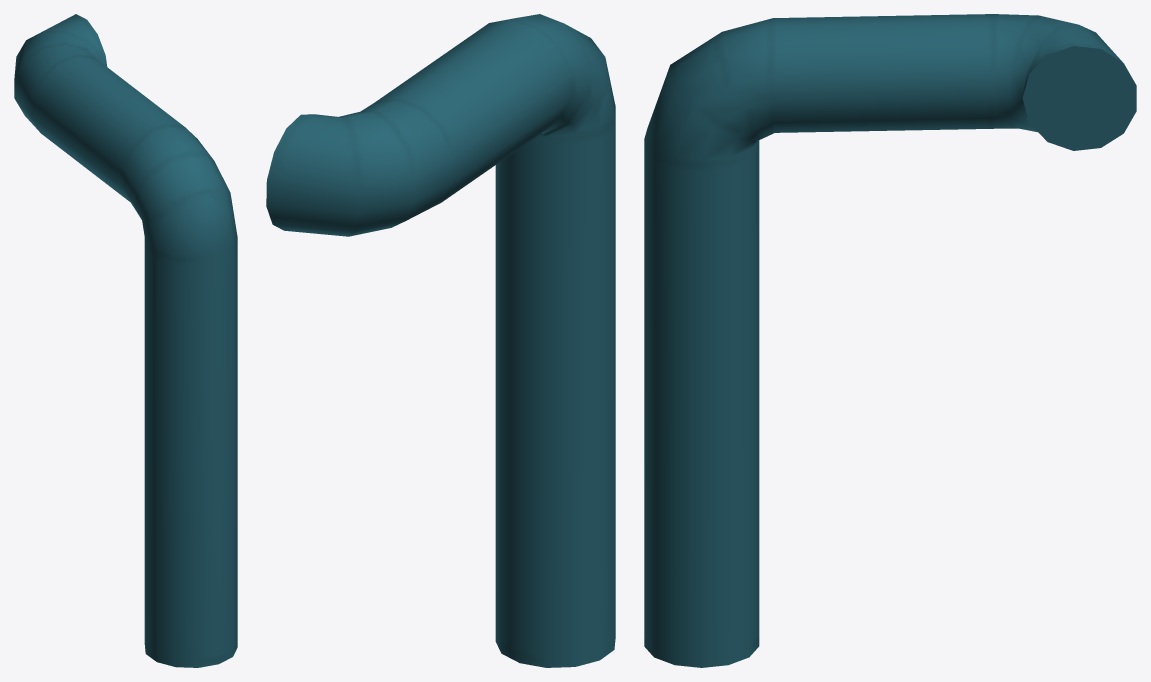
Rendered from grote pijp.fbx.
3 views of the same model, side by side, from view 1: azimuth 30°, elevation 25°; view 2: azimuth 150°, elevation 25°; view 3: azimuth 270°, elevation 25° (orthographic). The views are drawn at different scales.
Visible parts, largest first — view 1: pCylinder6; view 2: pCylinder6; view 3: pCylinder6.
Boxes of the visible parts, bbox=[...] form: pCylinder6: bbox=[14, 14, 237, 667]; pCylinder6: bbox=[266, 14, 615, 667]; pCylinder6: bbox=[644, 14, 1136, 667].
Size of the model in its own units: 0.9995 by 5.49 by 3.92.
1 material, 1 textured.
